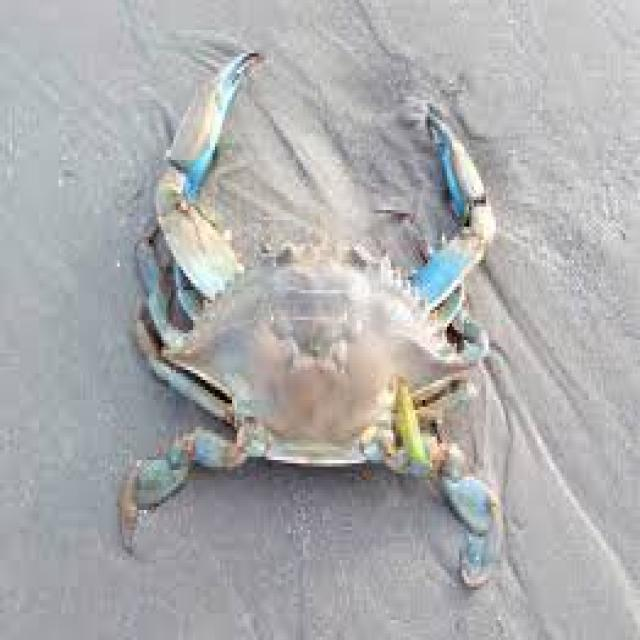crab: (175, 189, 467, 453)
